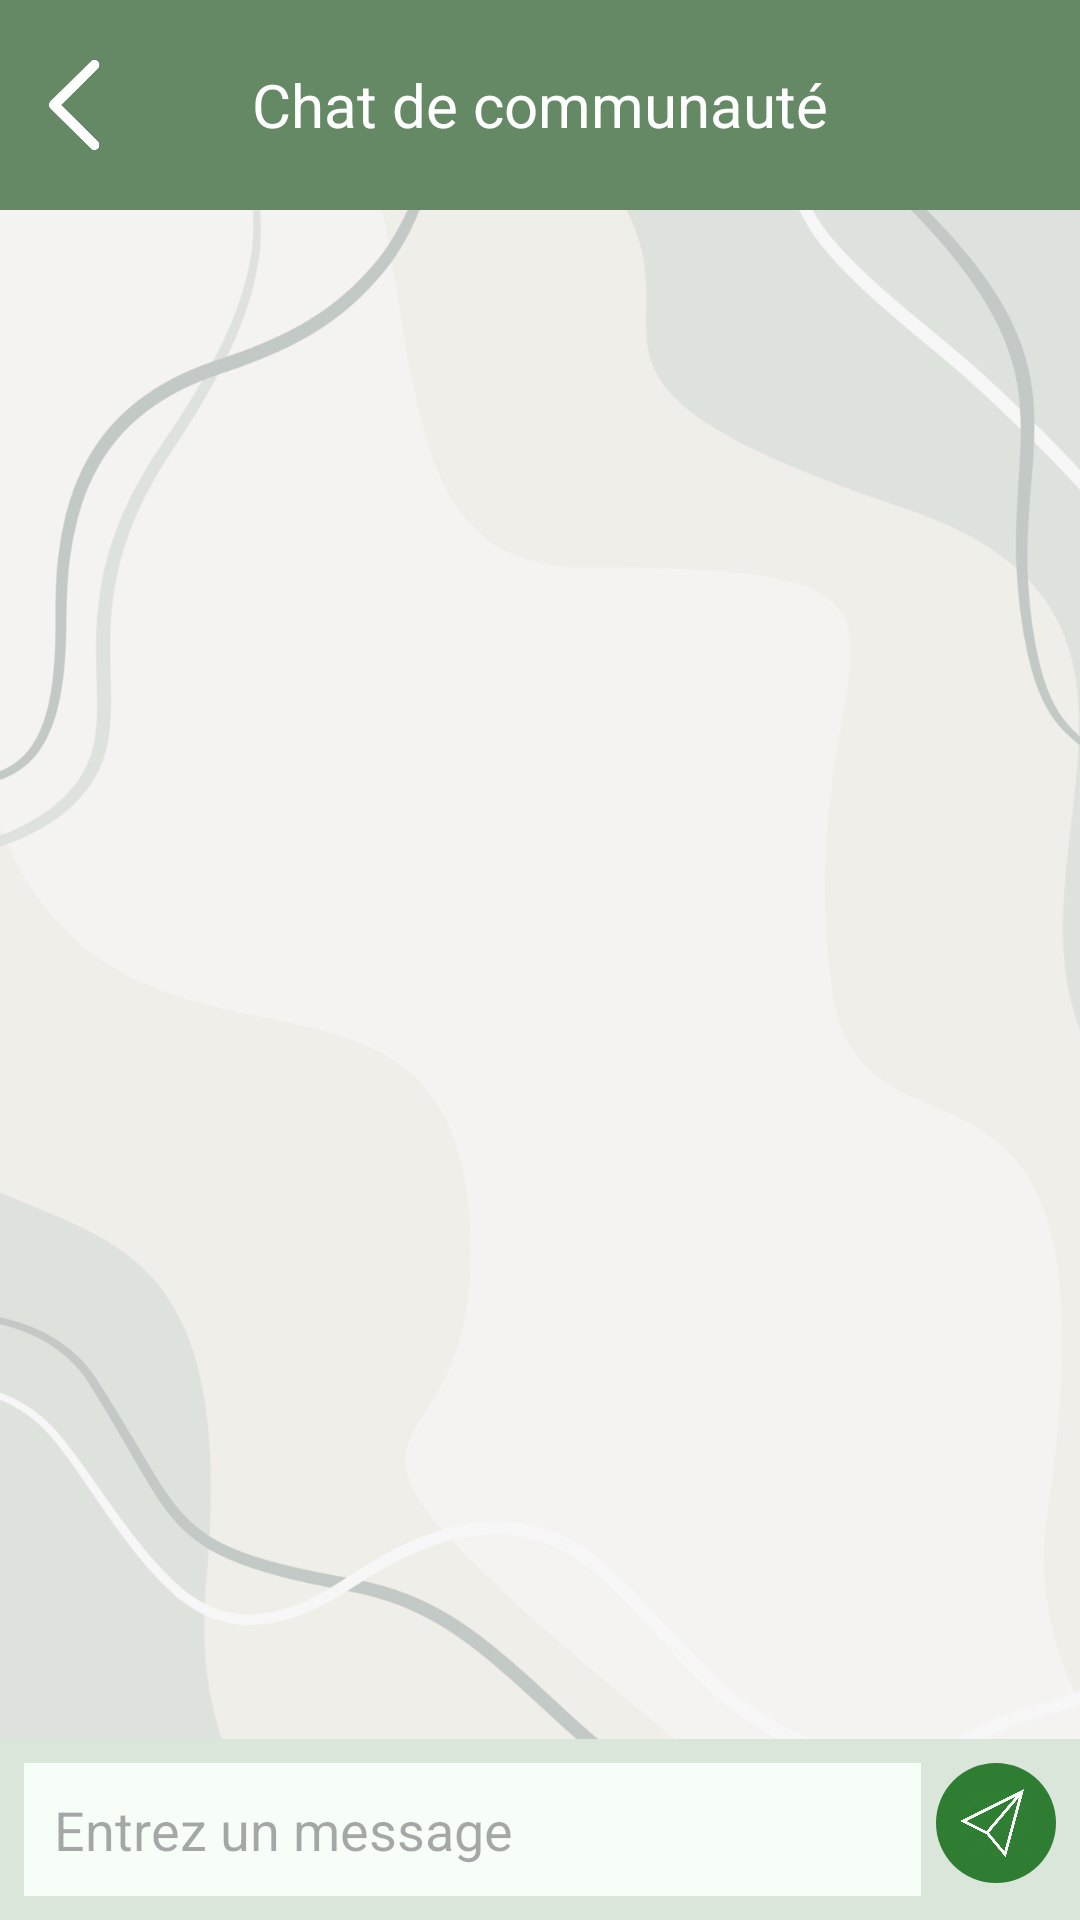

Locate icon controls on the screen. Image size 1080 x 1920, boxes as bbox(x1, y1, x2, y2).
back: bbox(49, 60, 99, 150)
Envoyer: bbox(936, 1763, 1056, 1883)
